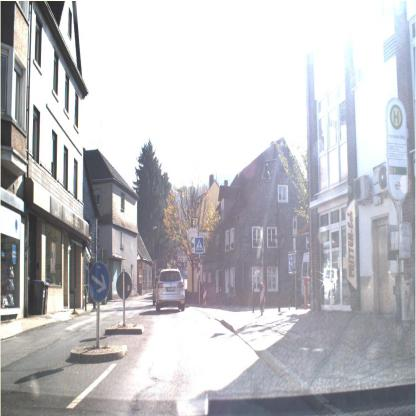mandatory: (88, 260, 111, 305), (194, 235, 206, 256)
